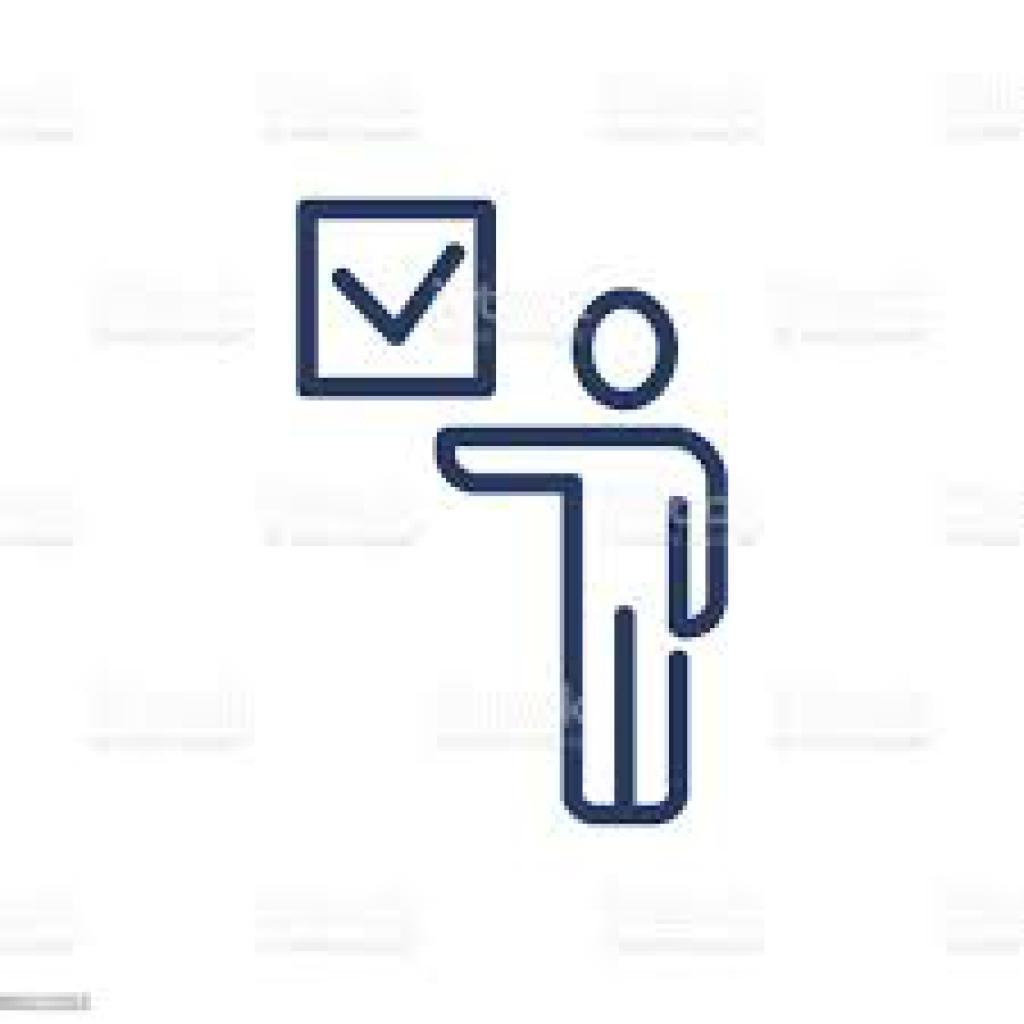checkbox: (300, 204, 497, 393)
